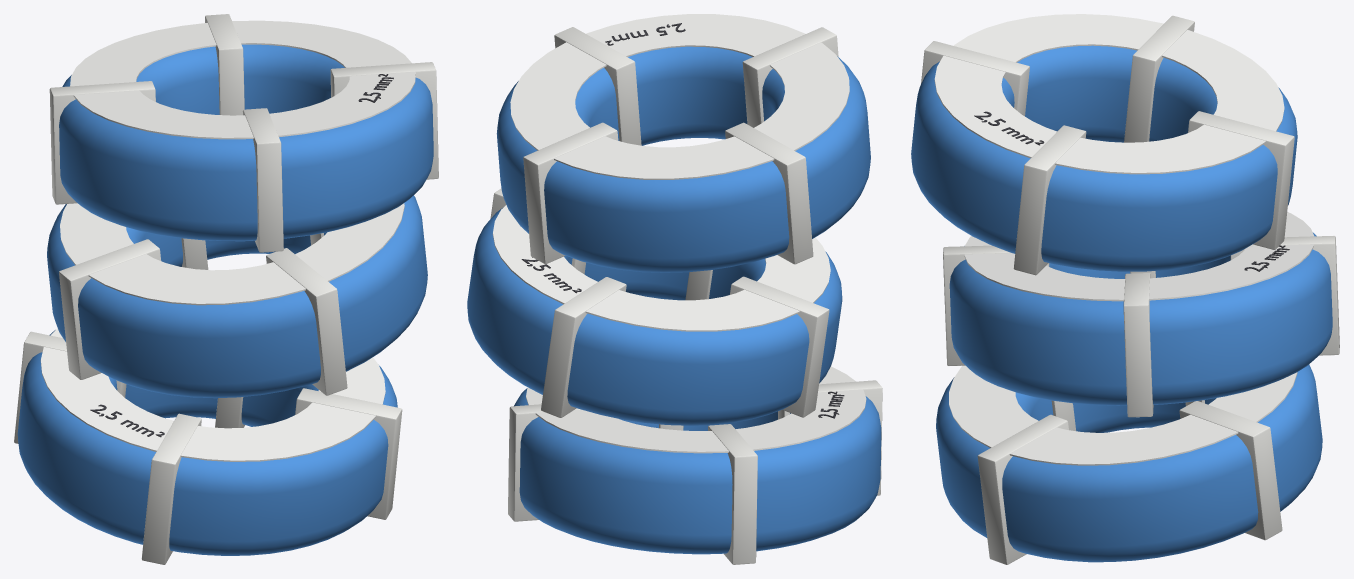
File: ELE-FIO-002_anim.glb
The picture shows the model from 3 angles, left to right: view 1: azimuth 30°, elevation 25°; view 2: azimuth 150°, elevation 25°; view 3: azimuth 270°, elevation 25°; orthographic projection. The views are drawn at different scales.
Parts seen in each view (by area): view 1: ELE-FIO-002_anim2, ELE-FIO-002_anim0, ELE-FIO-002_anim1; view 2: ELE-FIO-002_anim2, ELE-FIO-002_anim1, ELE-FIO-002_anim0; view 3: ELE-FIO-002_anim2, ELE-FIO-002_anim0, ELE-FIO-002_anim1.
Part boxes in pixels (left/top/right/bottom): ELE-FIO-002_anim2: left=49, top=14, right=438, bottom=252; ELE-FIO-002_anim0: left=14, top=328, right=402, bottom=564; ELE-FIO-002_anim1: left=47, top=195, right=427, bottom=398; ELE-FIO-002_anim2: left=496, top=14, right=870, bottom=272; ELE-FIO-002_anim1: left=467, top=188, right=842, bottom=425; ELE-FIO-002_anim0: left=508, top=366, right=882, bottom=564; ELE-FIO-002_anim2: left=911, top=14, right=1297, bottom=275; ELE-FIO-002_anim0: left=936, top=364, right=1322, bottom=564; ELE-FIO-002_anim1: left=943, top=212, right=1339, bottom=417.
Bounding box in the file's own units: 0.273 × 0.3052 × 0.2686.
